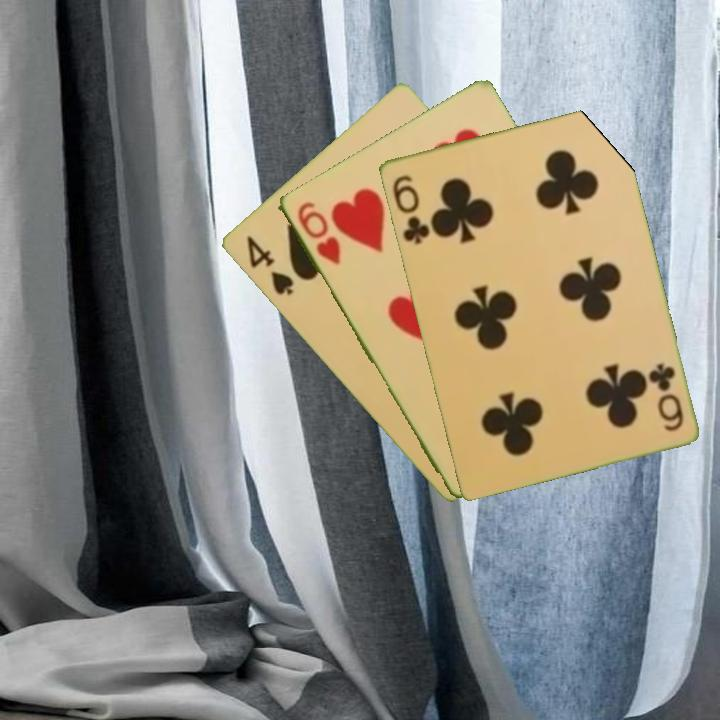4s: (242, 232, 296, 298)
6c: (388, 171, 433, 247), (645, 359, 686, 434)
6h: (293, 197, 343, 268)
